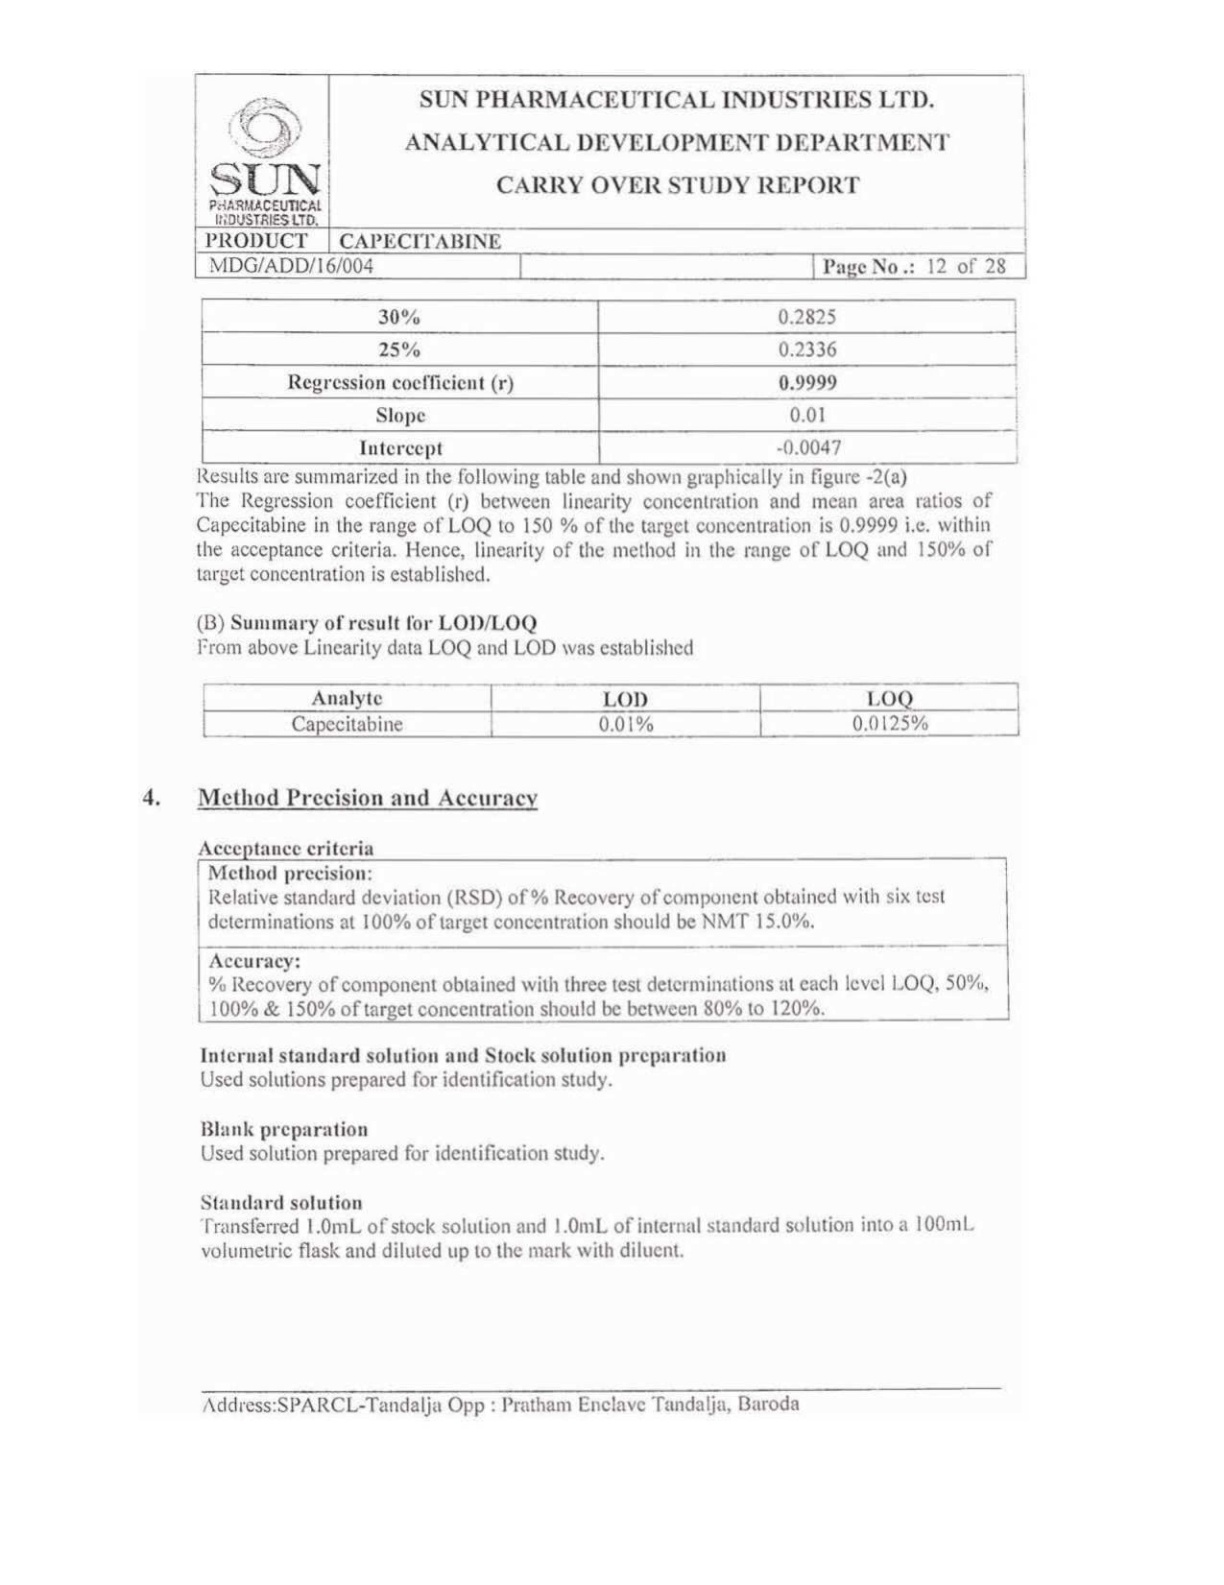full_lined: (201, 297, 1022, 468), (195, 857, 1011, 1025), (201, 680, 1022, 739)
merged_cells: (194, 72, 1029, 283)
